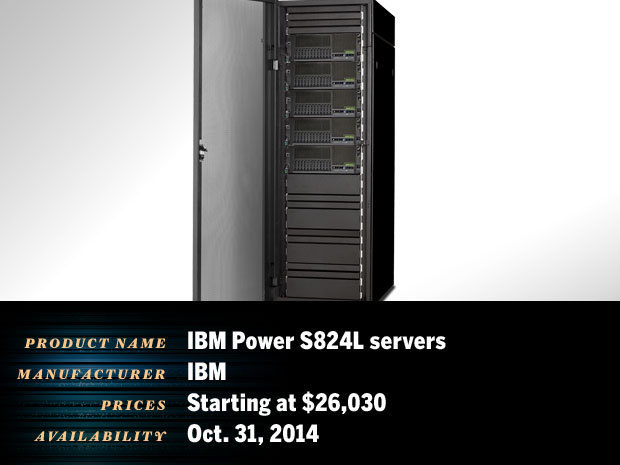ibm-server: (257, 1, 399, 299)
